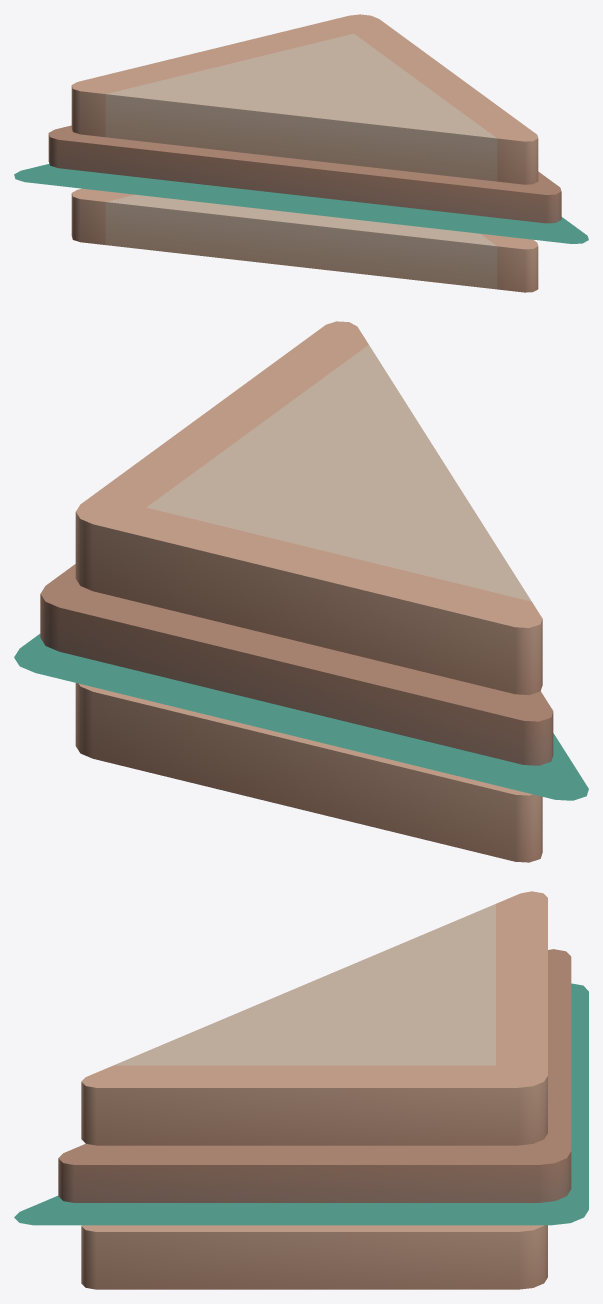
File: sandwich.glb
3 views of the same model, one above another, from view 1: azimuth 30°, elevation 25°; view 2: azimuth 150°, elevation 25°; view 3: azimuth 270°, elevation 25° (orthographic). The views are drawn at different scales.
Visible parts, largest first — view 1: sandwich; view 2: sandwich; view 3: sandwich.
Boxes of the visible parts, <box> form: sandwich: <box>14,14,588,292</box>; sandwich: <box>14,321,588,862</box>; sandwich: <box>14,891,588,1289</box>.
Size of the model in its own units: 0.4323 by 0.168 by 0.4339.
